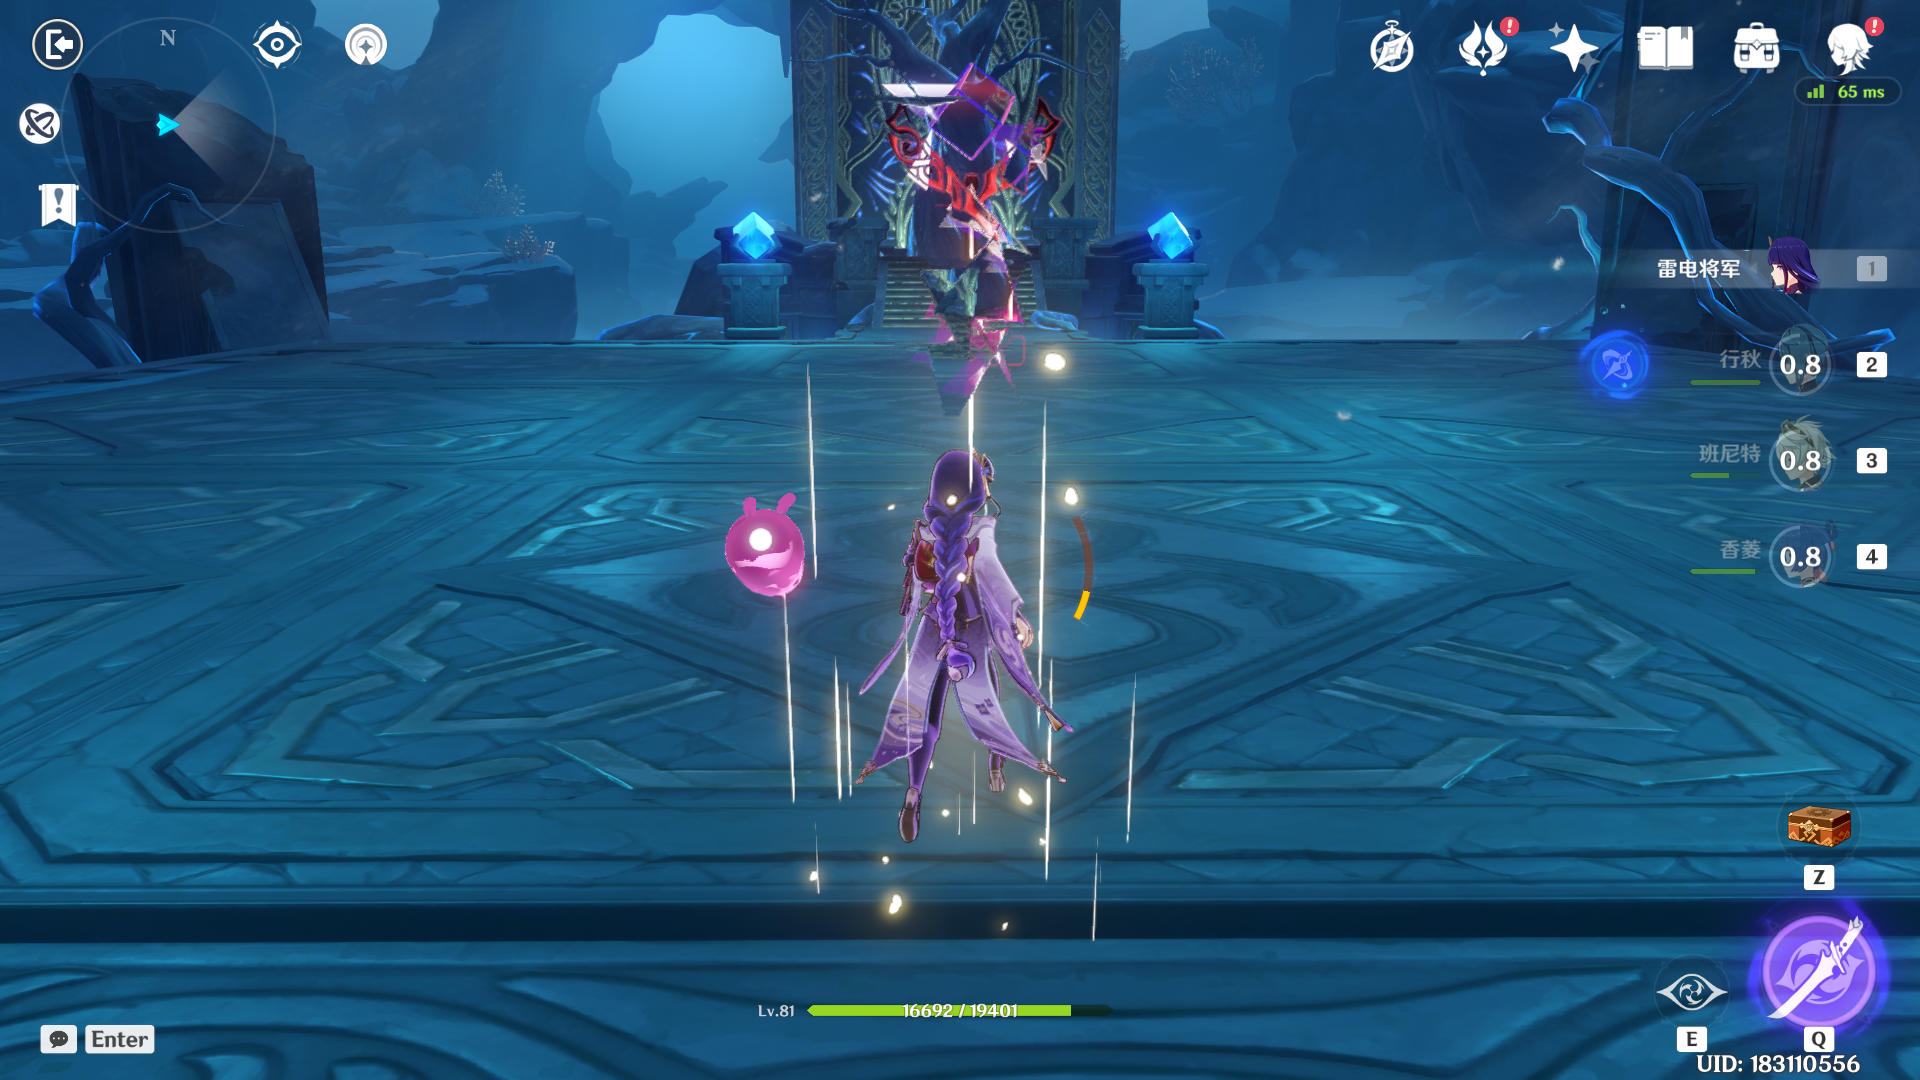character: (800, 400, 1101, 913)
